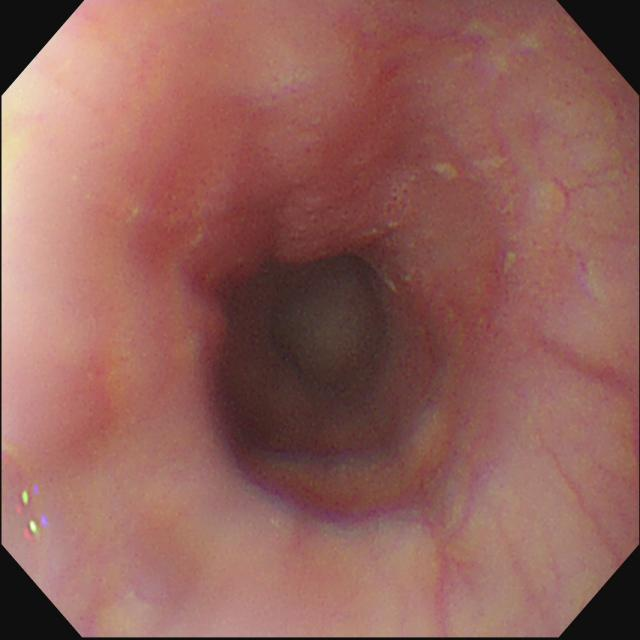A: (285, 155, 427, 268)
E: (254, 249, 401, 399)
U: (23, 517, 51, 543)
